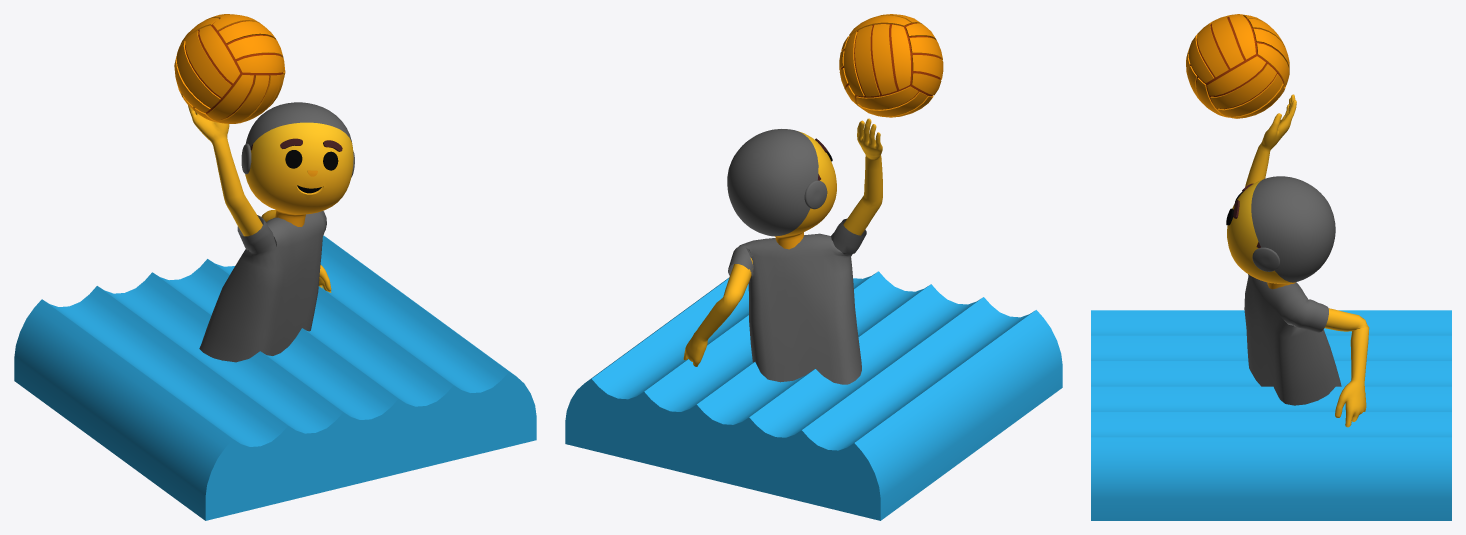
File: person_playing_water_polo.fbx
3 views of the same model, side by side, from view 1: azimuth 30°, elevation 25°; view 2: azimuth 150°, elevation 25°; view 3: azimuth 270°, elevation 25° (orthographic). The views are drawn at different scales.
Parts seen in each view (by area): view 1: Cube.326, Circle.418, Cube.327, Roundcube.495; view 2: Cube.326, Circle.418, Roundcube.495, Cube.327; view 3: Cube.326, Circle.418, Roundcube.495, Cube.327, Cylinder.412.
Part boxes in pixels (left/top/right/bottom): Cube.326: left=14, top=235, right=536, bottom=520; Circle.418: left=188, top=105, right=331, bottom=362; Cube.327: left=174, top=14, right=285, bottom=123; Roundcube.495: left=245, top=102, right=353, bottom=226; Cube.326: left=565, top=271, right=1062, bottom=520; Circle.418: left=683, top=118, right=882, bottom=384; Roundcube.495: left=727, top=129, right=836, bottom=249; Cube.327: left=839, top=14, right=943, bottom=117; Cube.326: left=1091, top=310, right=1451, bottom=520; Circle.418: left=1244, top=94, right=1369, bottom=427; Roundcube.495: left=1227, top=176, right=1335, bottom=289; Cube.327: left=1186, top=14, right=1289, bottom=118; Cylinder.412: left=1252, top=247, right=1279, bottom=271.
Size of the model in its own units: 160 by 195 by 160.
2 materials, 2 textured.
